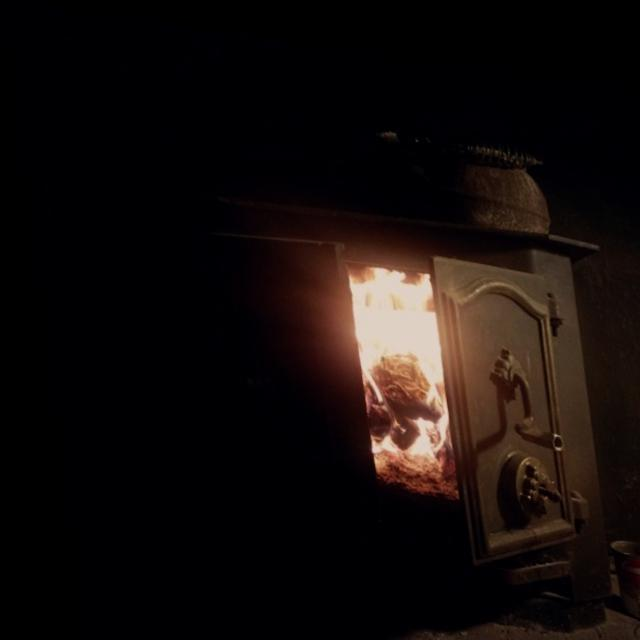Fire: (344, 256, 444, 479)
